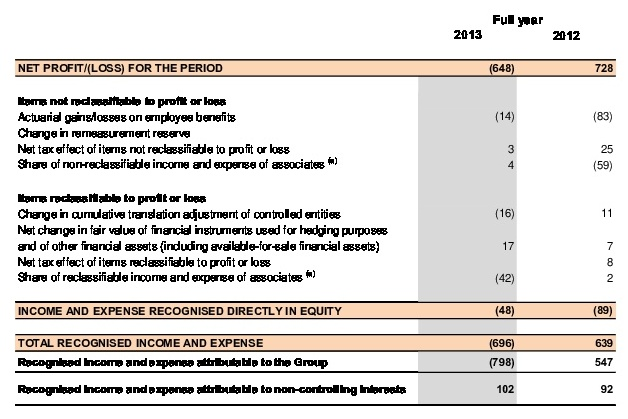table: (0, 0, 628, 419)
